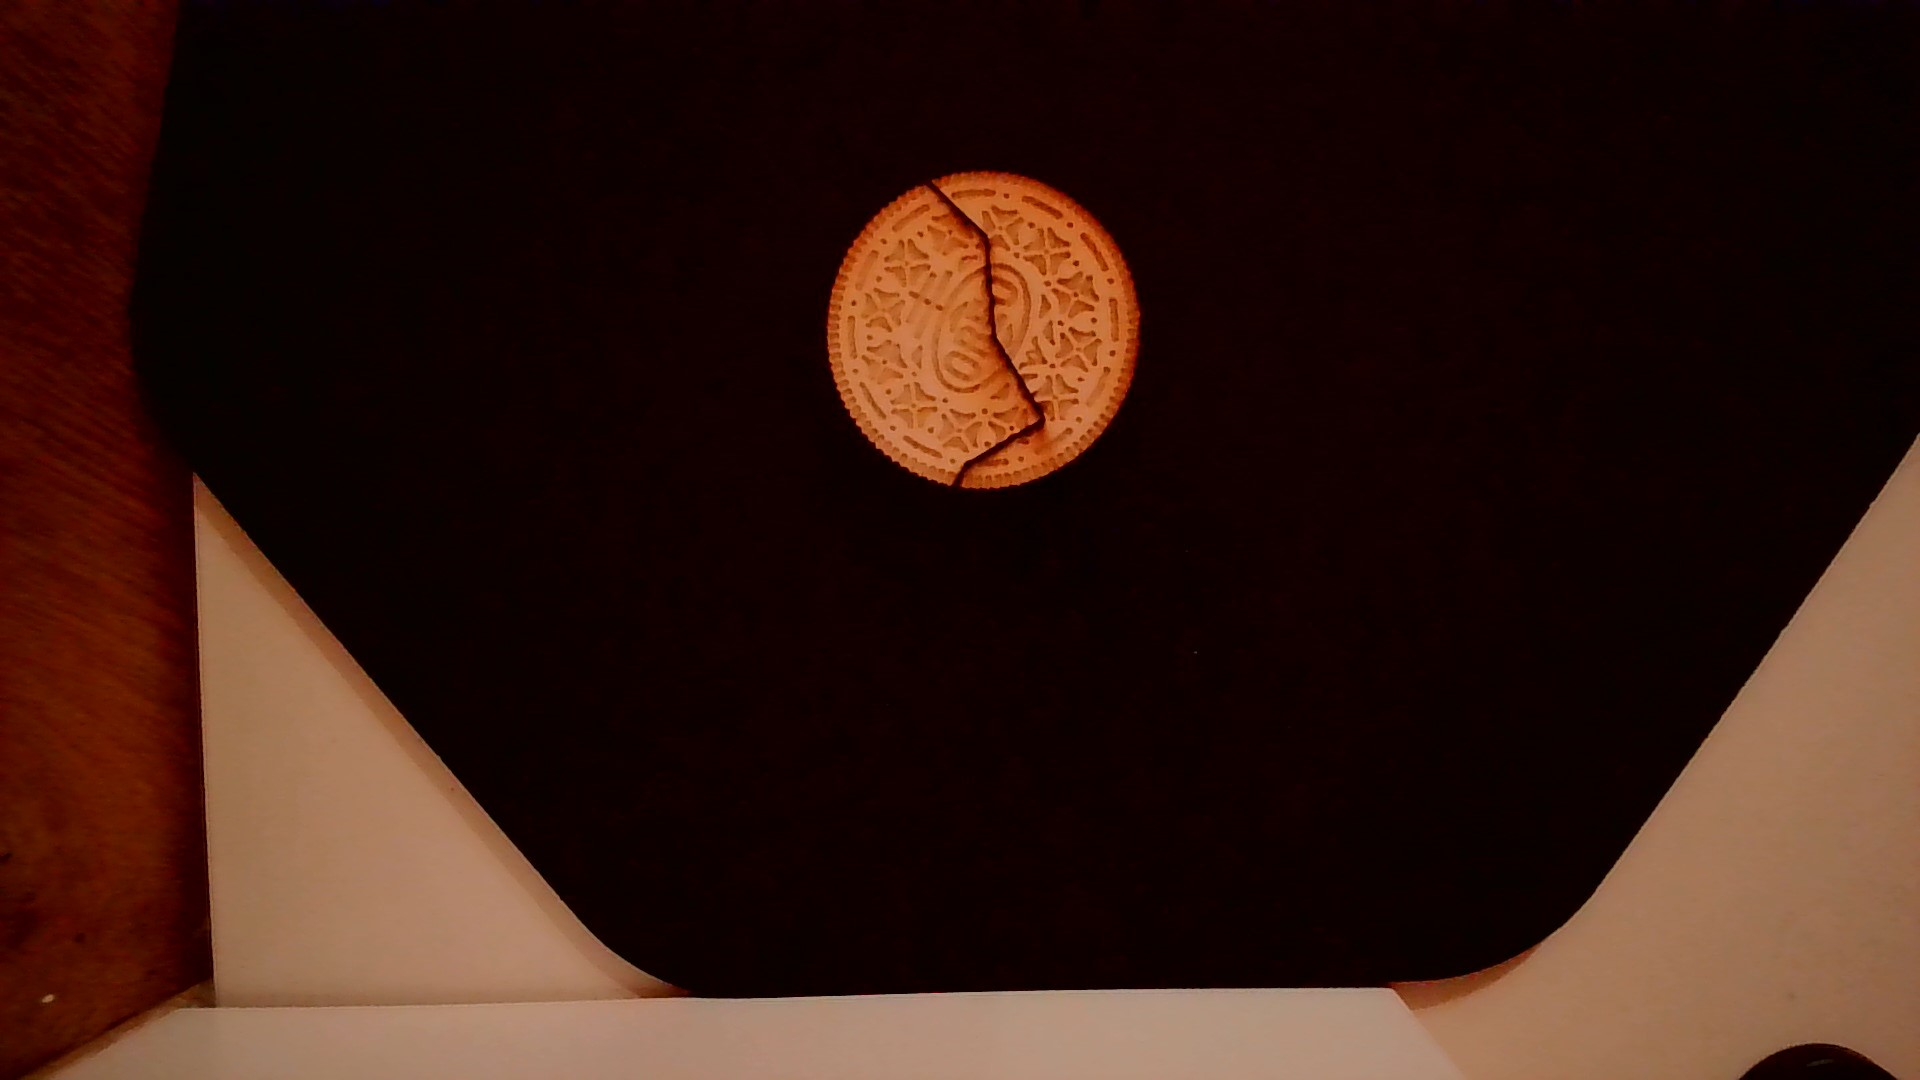Fissure: (907, 170, 1058, 497)
Oréo: (818, 169, 1149, 501)
